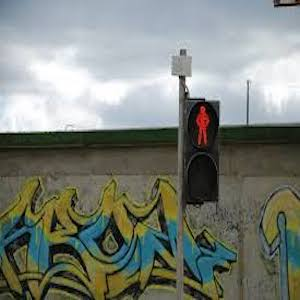red: (192, 105, 217, 149)
